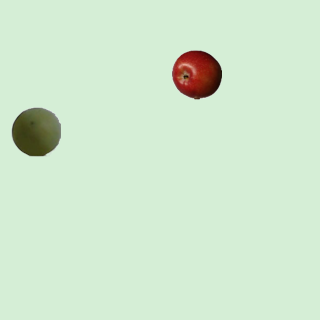Apple Braeburn: (171, 49, 221, 99)
Grape White 4: (10, 106, 60, 156)
